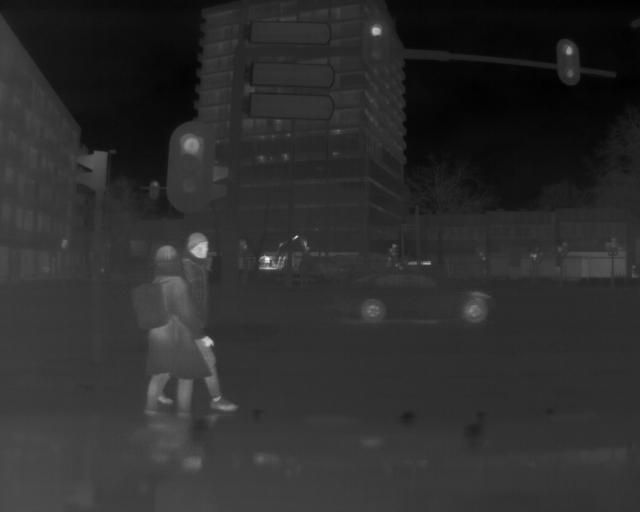car: (333, 267, 506, 327)
person: (178, 229, 238, 418), (131, 241, 182, 417)
